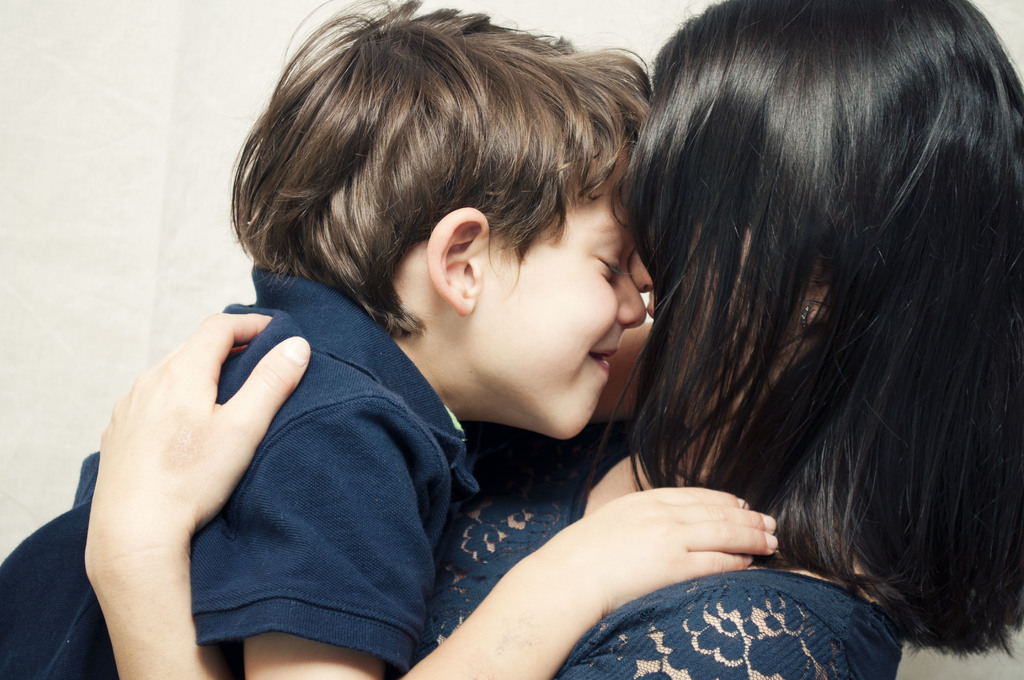face: (480, 115, 658, 436)
